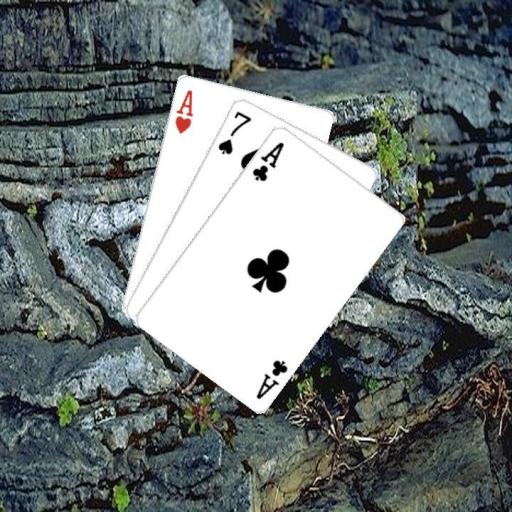7S: (215, 107, 253, 156)
AC: (249, 138, 286, 183), (253, 356, 290, 401)
AH: (171, 86, 195, 135)
